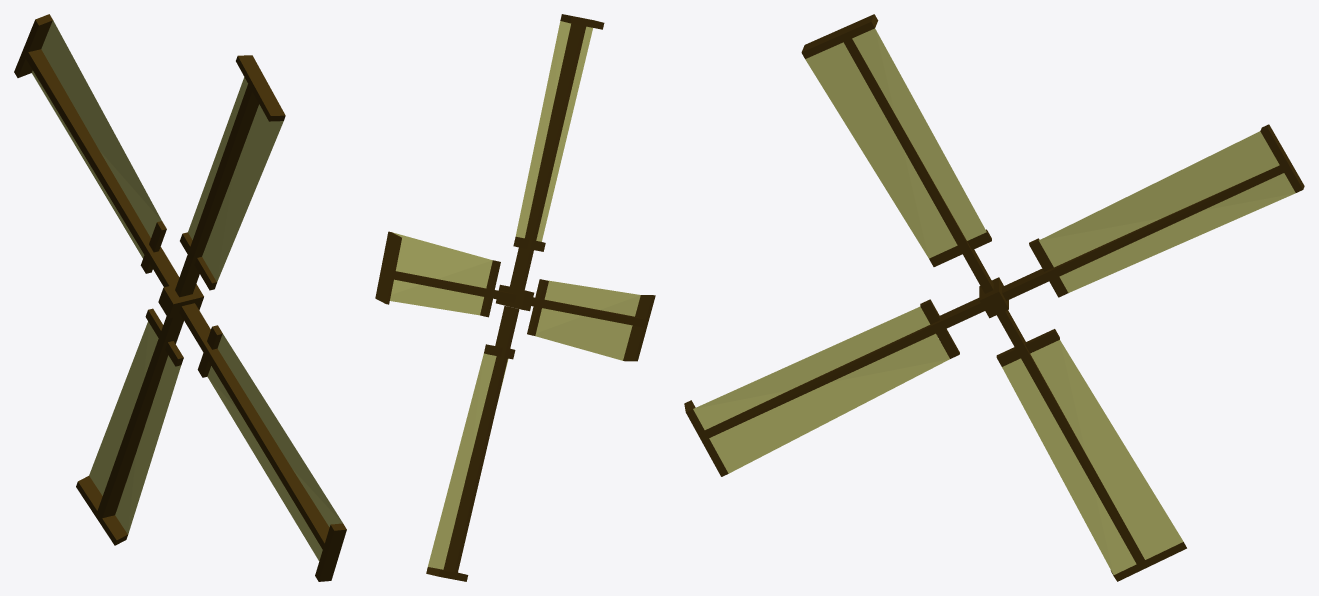
Rendered from mill_sails0006.obj.
The picture shows the model from 3 angles, left to right: view 1: azimuth 30°, elevation 25°; view 2: azimuth 150°, elevation 25°; view 3: azimuth 270°, elevation 25°; orthographic projection. The views are drawn at different scales.
Visible parts, largest first — view 1: Sails; view 2: Sails; view 3: Sails.
Boxes of the visible parts, <box> form: Sails: <box>14,14,346,581</box>; Sails: <box>375,14,655,581</box>; Sails: <box>684,14,1304,581</box>.
Bounding box in the file's own units: 0.5135 × 9.28 × 9.27.
